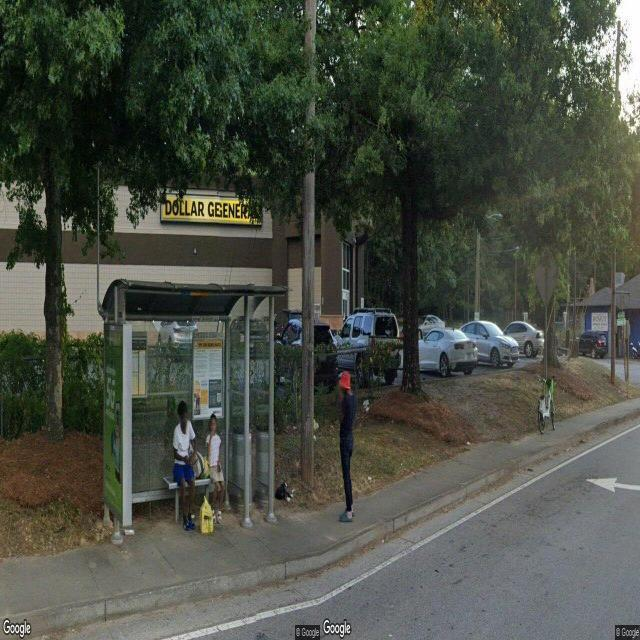seating: (162, 472, 215, 526)
shelter: (99, 280, 289, 540)
trash_can: (256, 429, 276, 505), (232, 427, 250, 507)
